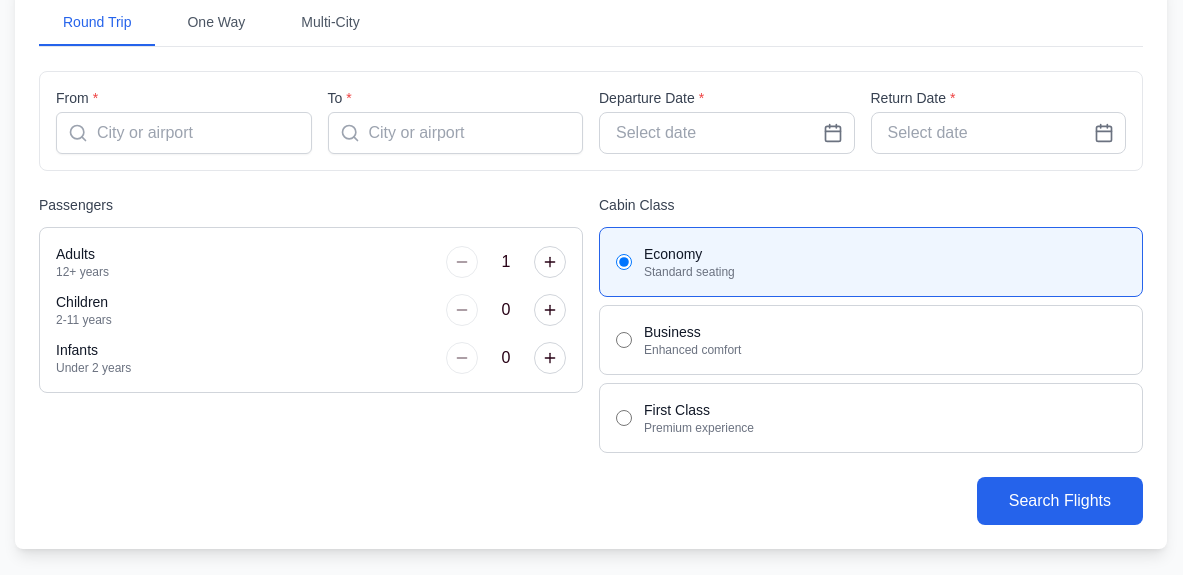
Test case: Search Component › Passenger Counter › does not allow infants to exceed adults
Note: With 1 adult, try to add 2 infants
Step 1. Click the button named "Increase infants" → (550, 358), box [534,342,566,374]
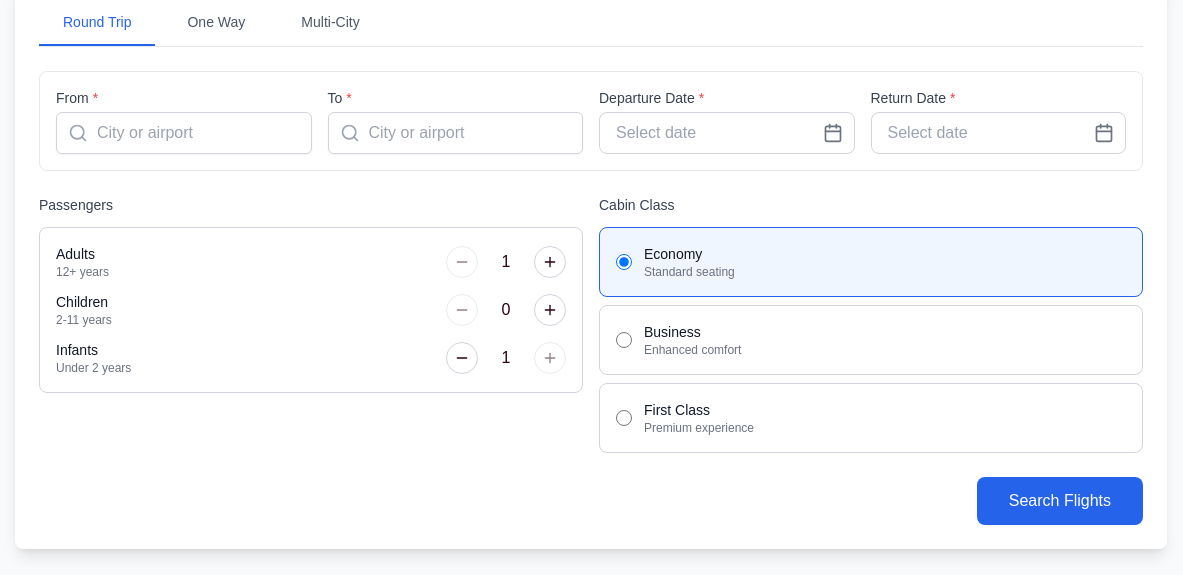
Expected: the button named "Increase infants" is disabled, [534,342,566,374]
